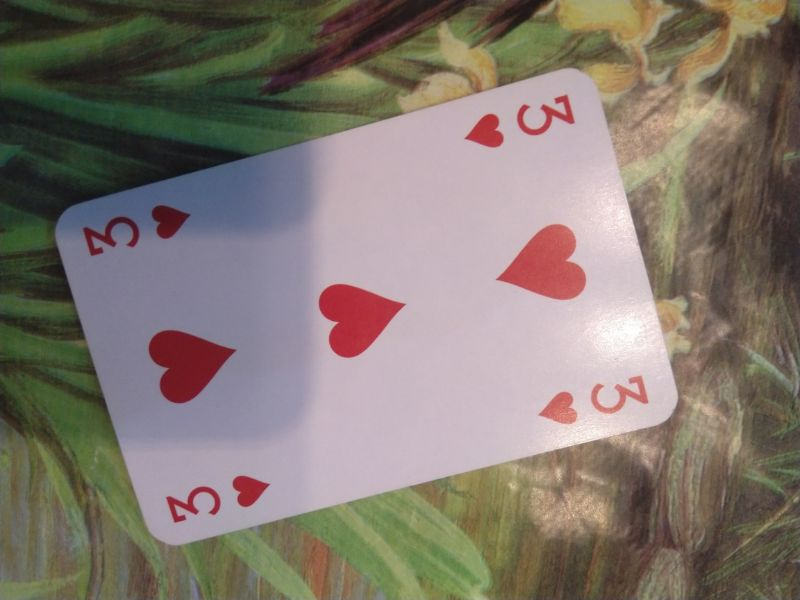3h: (80, 195, 195, 263), (462, 86, 579, 152), (535, 371, 650, 427), (165, 470, 273, 527)
